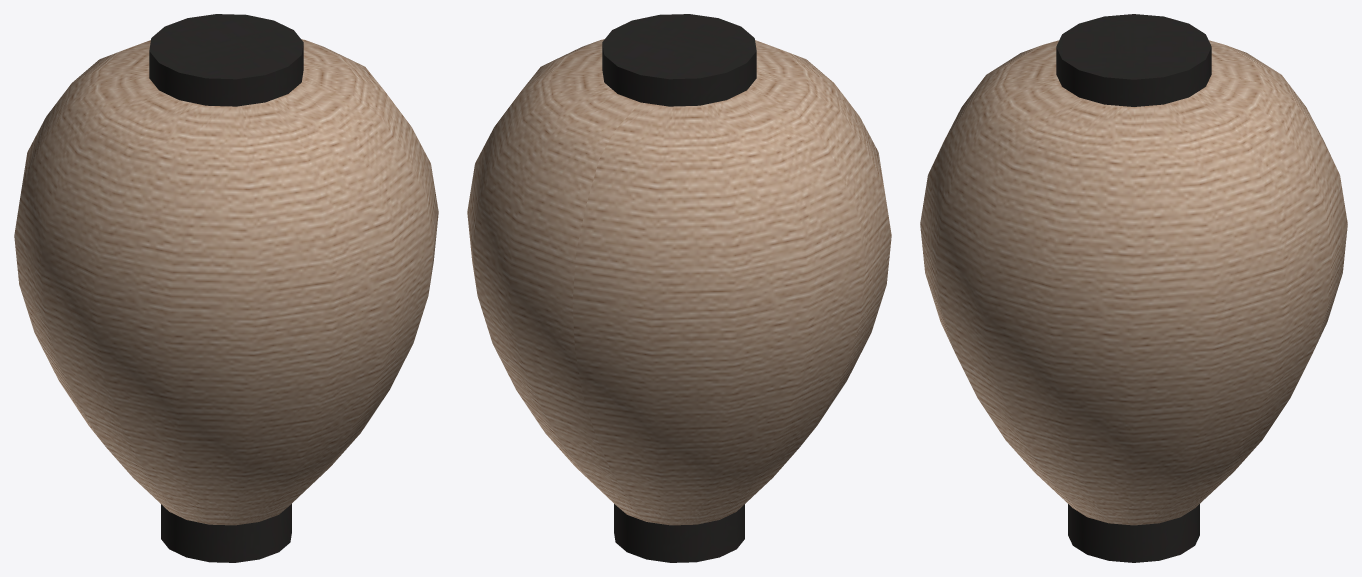
Rendered from soumatou__2_blue.fbx.
3 renders of one model, left to right at view 1: azimuth 30°, elevation 25°; view 2: azimuth 150°, elevation 25°; view 3: azimuth 270°, elevation 25°, orthographic.
Parts seen in each view (by area): view 1: soumatou__2; view 2: soumatou__2; view 3: soumatou__2.
Part boxes in pixels (x1,y1,x2,y2): soumatou__2: (14,14,438,562); soumatou__2: (467,14,891,562); soumatou__2: (920,14,1347,562).
Bounding box in the file's own units: 0.3041 × 0.3831 × 0.3041.
2 materials, 2 textured.
